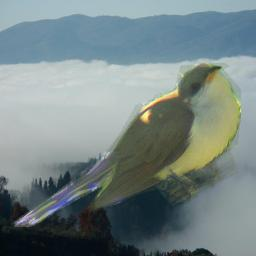Cuckoo: (11, 63, 241, 227)
